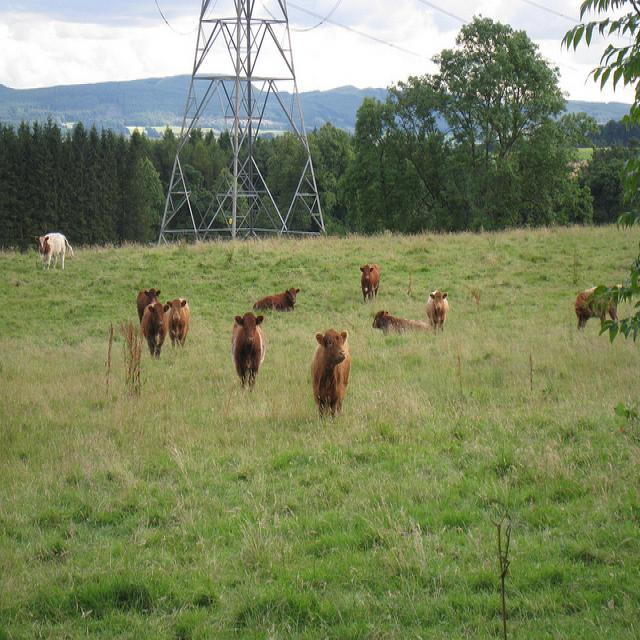cow: (310, 327, 350, 416), (230, 311, 264, 391), (572, 284, 617, 328), (140, 300, 168, 360), (371, 308, 428, 333), (35, 231, 72, 265), (165, 295, 189, 347), (425, 289, 447, 332), (135, 285, 161, 320), (356, 260, 378, 301), (255, 287, 298, 304)
